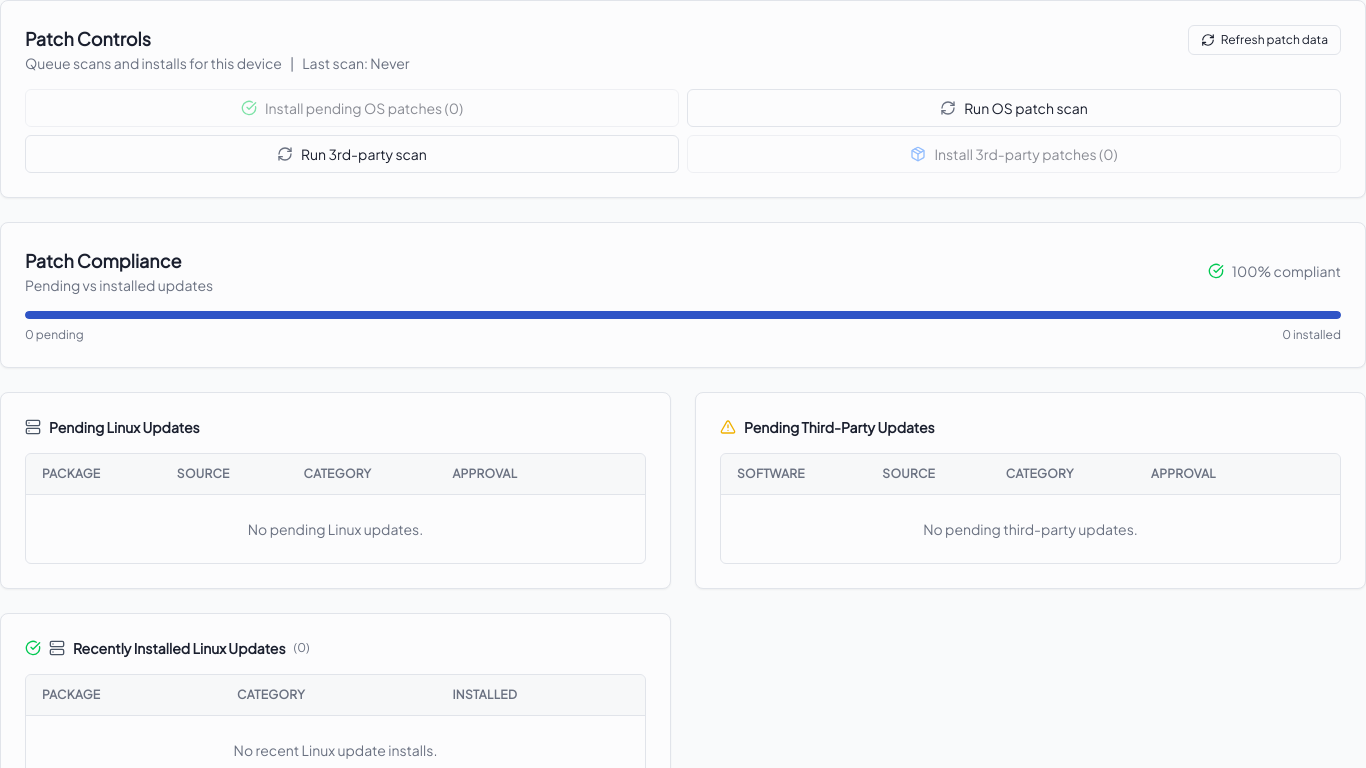
Scenario: DevicePatchStatusTab › refreshes recent Linux install history when patch data is refreshed
Click the button "Refresh patch data".
click(1264, 40)  # box [1188,25,1341,55]
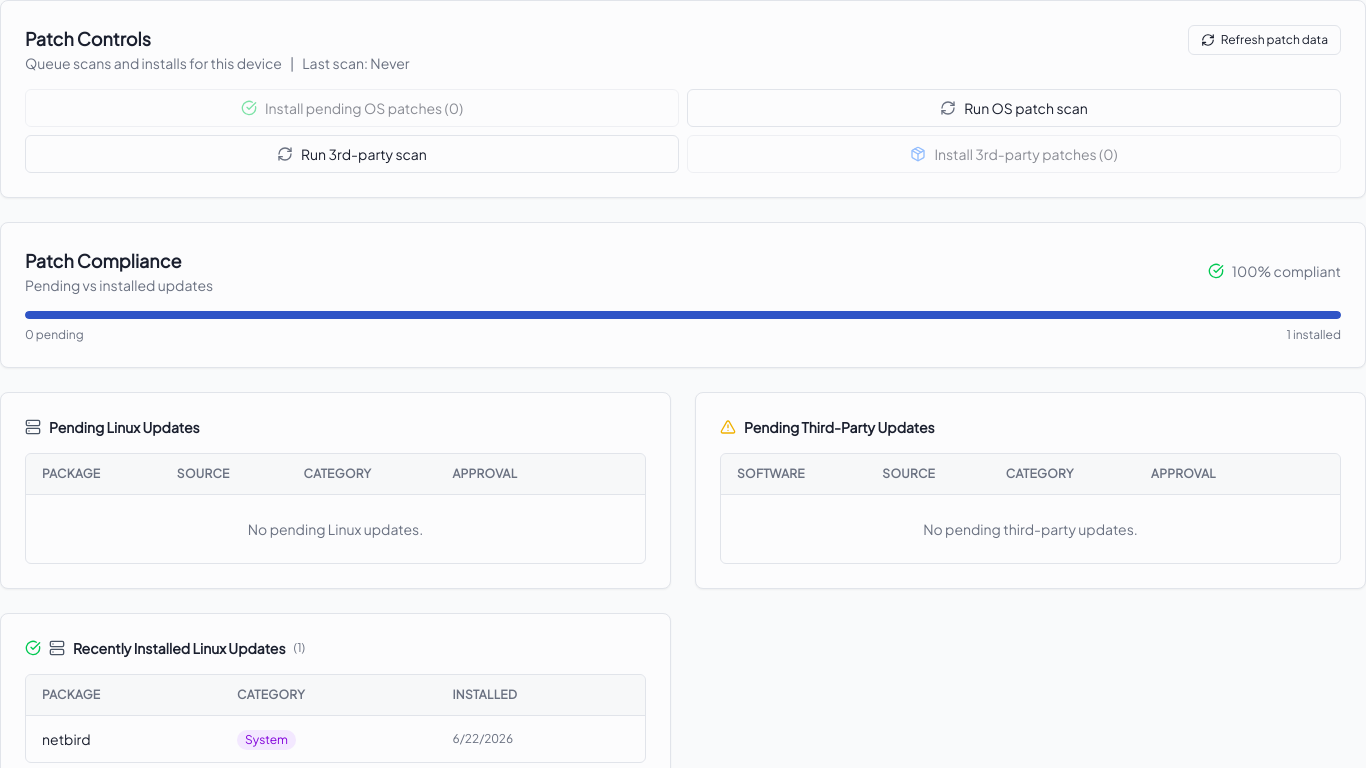
expect the text "netbird" is shown: met, box [26,716,221,762]
